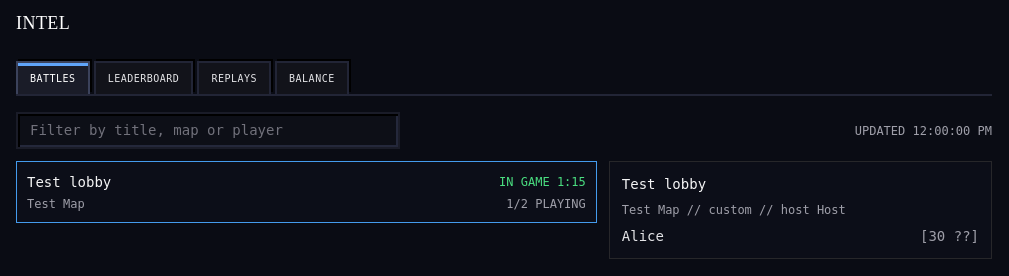
Test: IntelView › refreshes battles every 20 s, only while the window is visible and the tab is shown
The width and height of the screenshot is (1009, 276).
Step 1. Click the tab "LEADERBOARD" → point(144, 78), box x1=94 y1=61 x2=193 y2=94
Wait 60000 ms
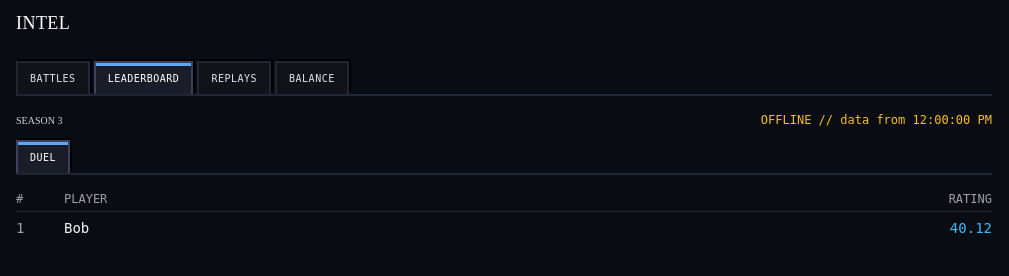
expect the text "SEASON 3" is shown: met, box x1=16 y1=112 x2=62 y2=128
expect the text "40.12" is shown: met, box x1=528 y1=212 x2=992 y2=244
expect the text "OFFLINE // data from" is shown: met, box x1=761 y1=113 x2=912 y2=127
